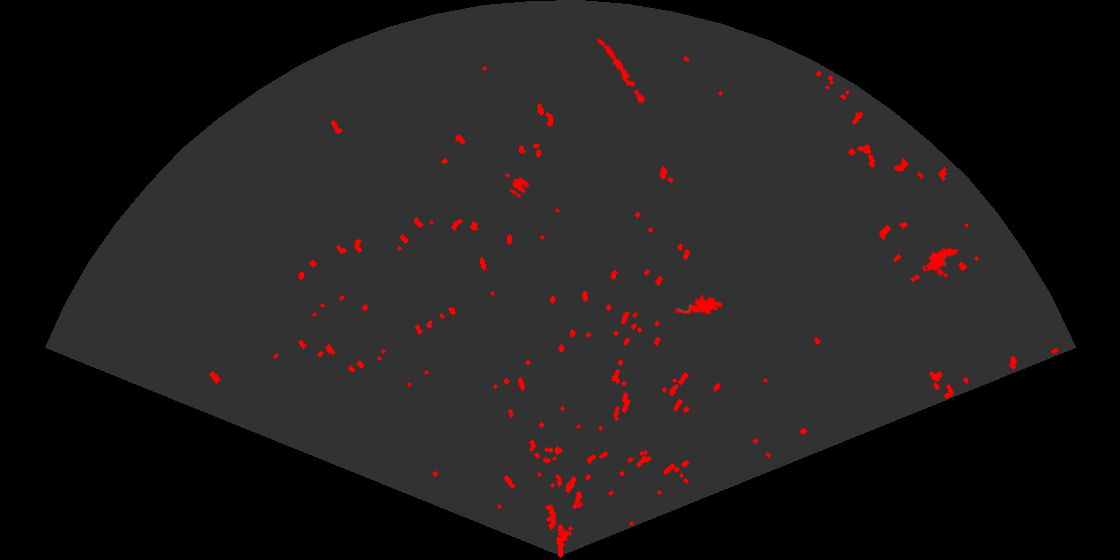AUV: (924, 246, 961, 273)
ball: (508, 176, 531, 200)
chain: (595, 37, 649, 107)
frogman: (673, 293, 722, 316)
